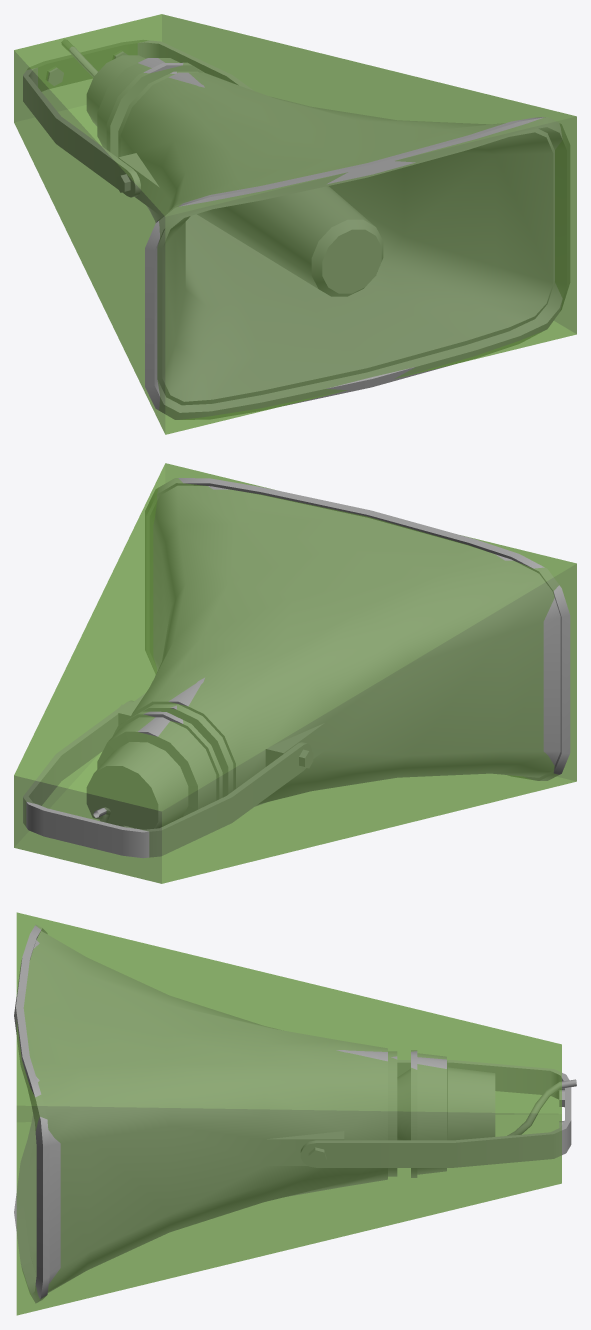
The model's file is p_Speaker_01_a.fbx.
3 renders of one model, top to bottom at view 1: azimuth 30°, elevation 25°; view 2: azimuth 150°, elevation 25°; view 3: azimuth 270°, elevation 25°, orthographic. The views are drawn at different scales.
Visible parts, largest first — view 1: p_Speaker_01_a_col, p_Speaker_01_a_LOD0; view 2: p_Speaker_01_a_col, p_Speaker_01_a_LOD0; view 3: p_Speaker_01_a_col, p_Speaker_01_a_LOD0.
Part boxes in pixels (x1,y1,x2,y2): p_Speaker_01_a_col: [14, 14, 576, 434]; p_Speaker_01_a_LOD0: [23, 39, 569, 419]; p_Speaker_01_a_col: [14, 463, 576, 883]; p_Speaker_01_a_LOD0: [23, 478, 570, 858]; p_Speaker_01_a_col: [16, 912, 561, 1315]; p_Speaker_01_a_LOD0: [14, 924, 576, 1303].
Size of what is drawn, in the model's own units: 39.8 by 19.93 by 47.4.
